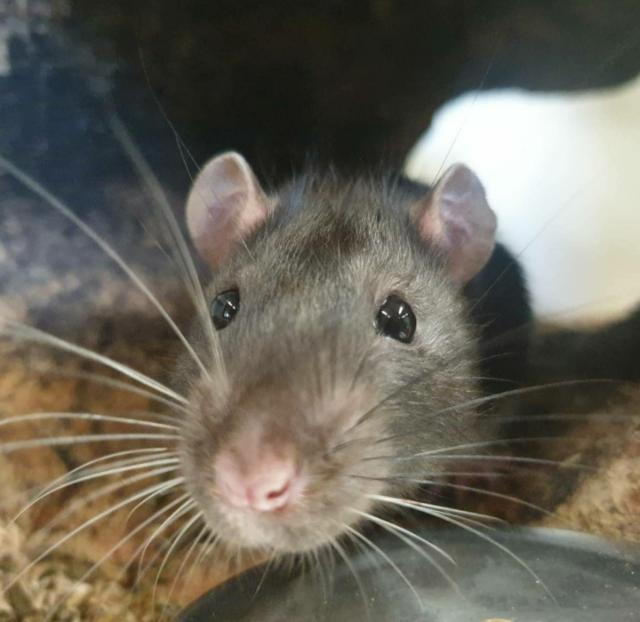rat: (145, 138, 528, 566)
